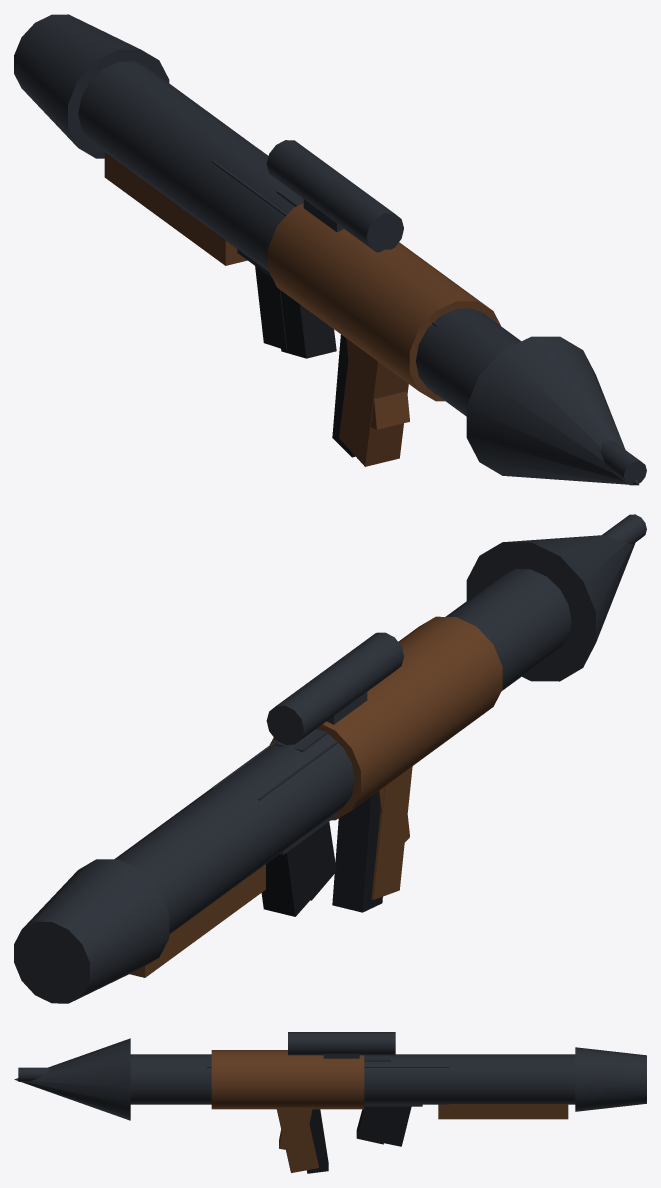
The model's file is weapon_pack.glb.
3 renders of one model, top to bottom at view 1: azimuth 30°, elevation 25°; view 2: azimuth 150°, elevation 25°; view 3: azimuth 270°, elevation 25°, orthographic. The views are drawn at different scales.
Visible parts, largest first — view 1: weapon_rpg, weapon_rifle, weapon_smg, weapon_pistol; view 2: weapon_rpg, weapon_rifle, weapon_smg, weapon_pistol; view 3: weapon_rpg, weapon_rifle, weapon_smg, weapon_pistol.
Boxes of the visible parts, x1=… form: weapon_rpg: x1=14, y1=14, x2=639, y2=485; weapon_rifle: x1=104, y1=140, x2=646, y2=485; weapon_smg: x1=237, y1=188, x2=355, y2=457; weapon_pistol: x1=280, y1=290, x2=336, y2=358; weapon_rpg: x1=14, y1=535, x2=635, y2=1003; weapon_rifle: x1=129, y1=514, x2=646, y2=977; weapon_smg: x1=261, y1=730, x2=382, y2=916; weapon_pistol: x1=310, y1=822, x2=336, y2=900; weapon_rpg: x1=14, y1=1038, x2=646, y2=1149; weapon_rifle: x1=18, y1=1032, x2=568, y2=1172; weapon_smg: x1=307, y1=1055, x2=422, y2=1173; weapon_pistol: x1=356, y1=1106, x2=385, y2=1144.
Size of the model in its own units: 0.1794 by 0.336 by 1.41.
